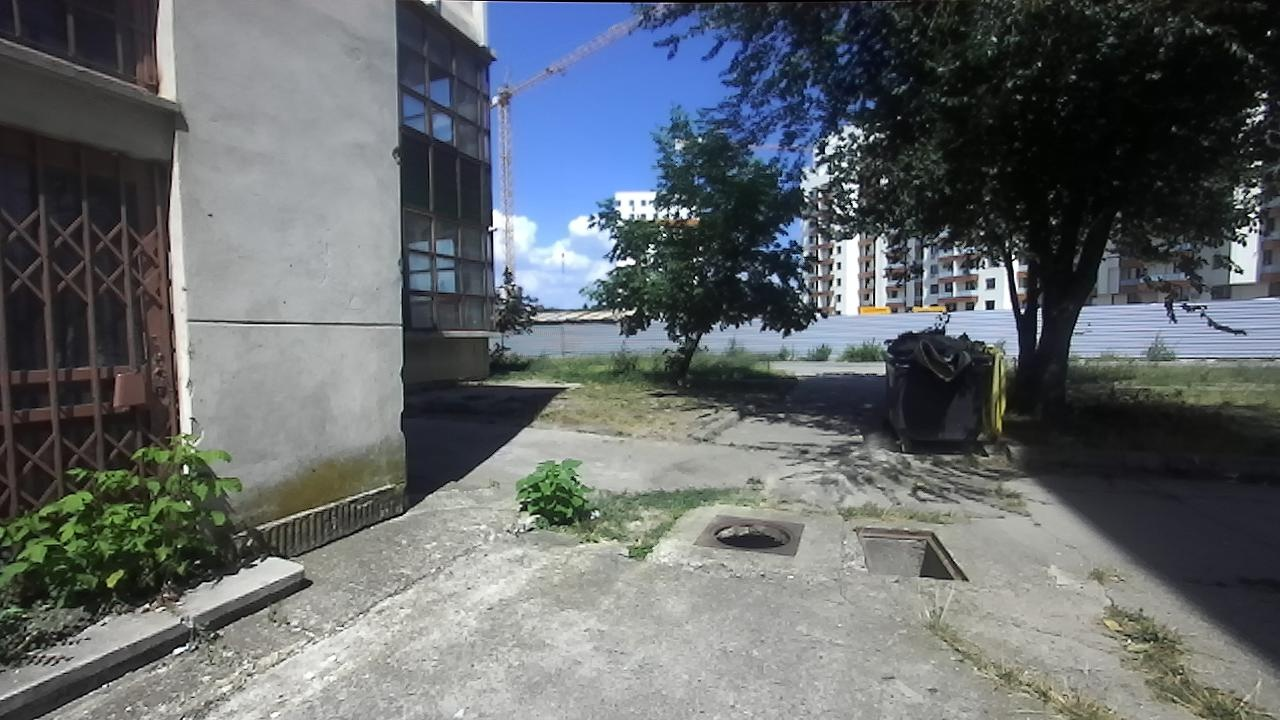drain: (850, 520, 972, 587), (706, 516, 795, 553)
